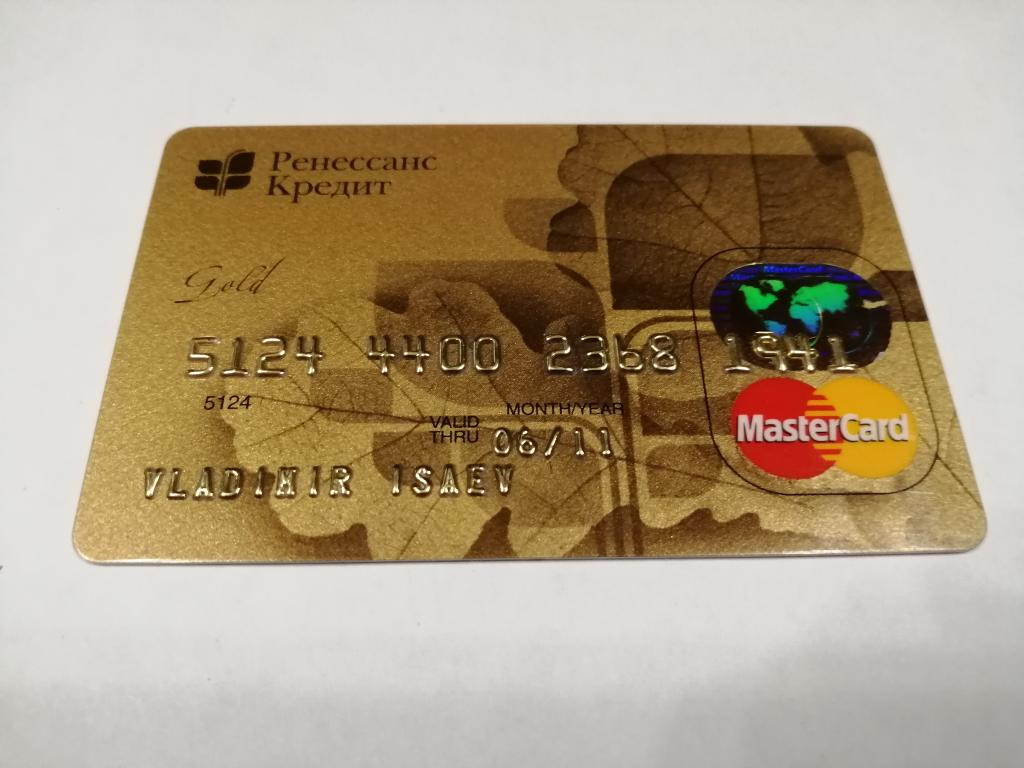card: (68, 126, 991, 568)
